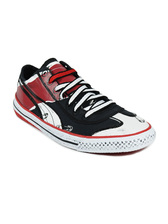shoes: (12, 57, 159, 157)
